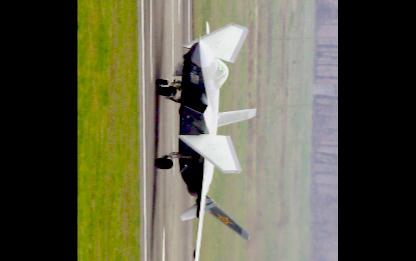F4: (154, 20, 257, 259)
